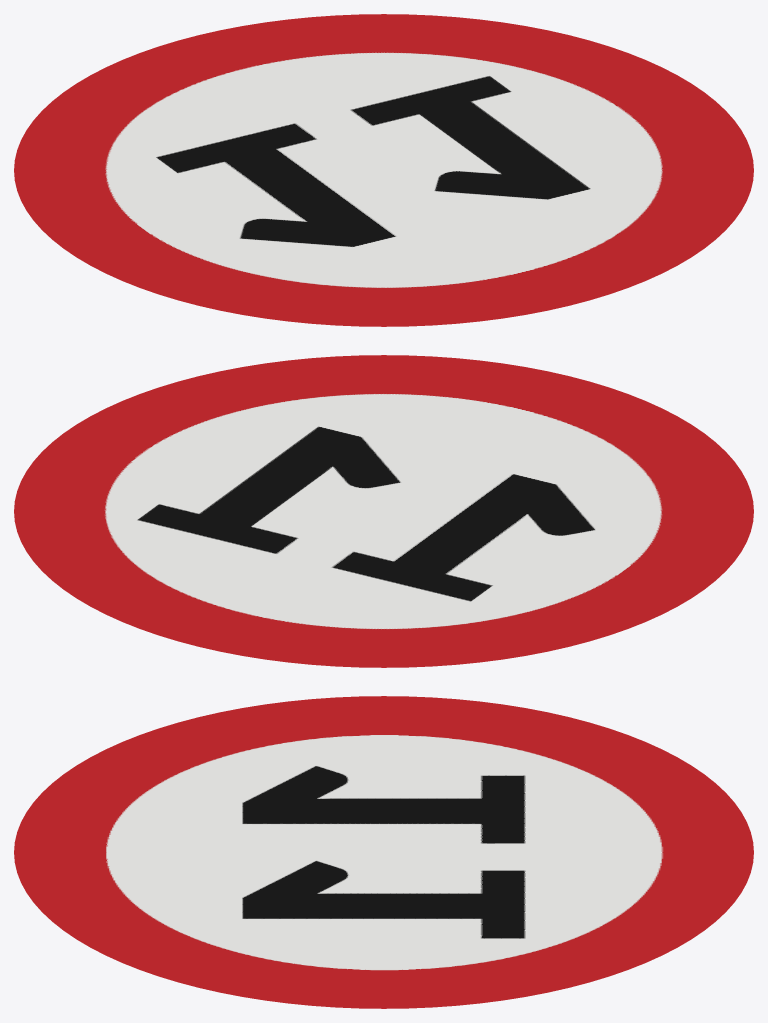
File: stage_11.obj
3 renders of one model, top to bottom at view 1: azimuth 30°, elevation 25°; view 2: azimuth 150°, elevation 25°; view 3: azimuth 270°, elevation 25°, orthographic.
Visible parts, largest first — view 1: stage_11; view 2: stage_11; view 3: stage_11.
Part boxes in pixels (x1,y1,x2,y2): stage_11: [14, 14, 753, 326]; stage_11: [14, 355, 753, 667]; stage_11: [14, 696, 753, 1008].
Bounding box in the file's own units: 0.6 × 0 × 0.6.
Materials: 1 (1 with a texture image).
